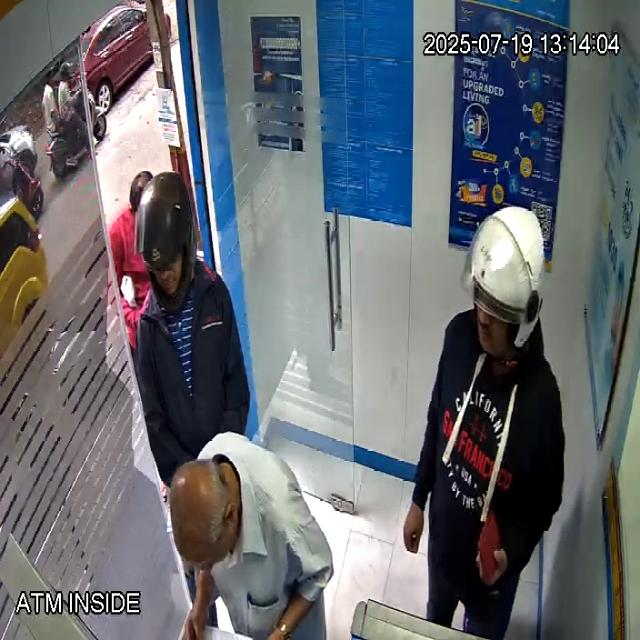helmet: (460, 207, 545, 358), (135, 171, 198, 316)
no_helmet: (170, 458, 242, 570)
